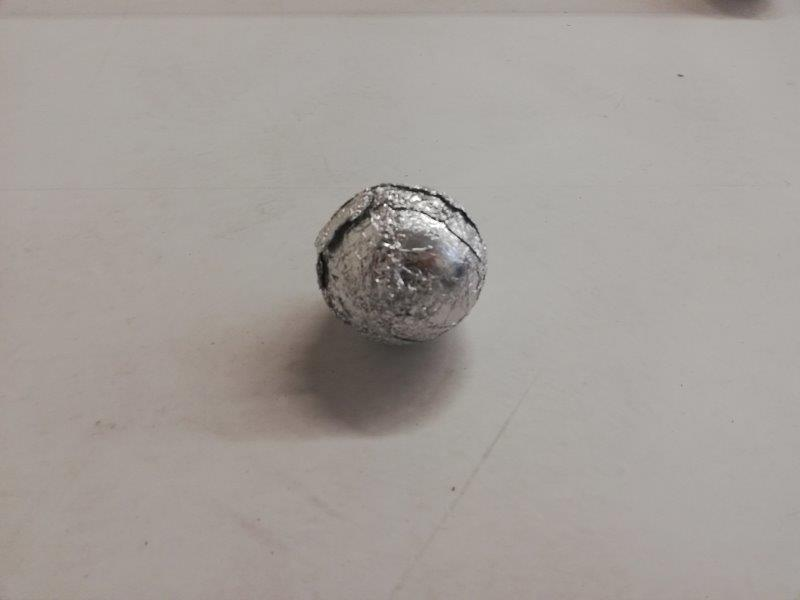bianca: (315, 181, 488, 346)
